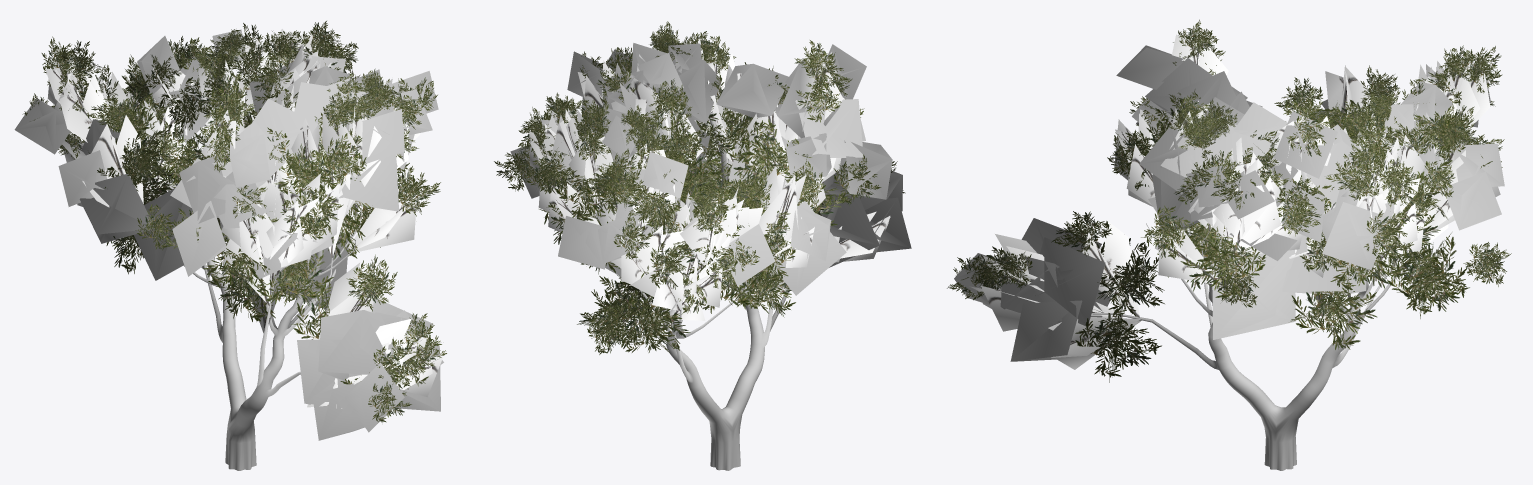
Rendered from Type_2_5.fbx.
The picture shows the model from 3 angles, left to right: view 1: azimuth 30°, elevation 25°; view 2: azimuth 150°, elevation 25°; view 3: azimuth 270°, elevation 25°; orthographic projection. The views are drawn at different scales.
Parts seen in each view (by area): view 1: Type_2_5; view 2: Type_2_5; view 3: Type_2_5.
Part boxes in pixels (bbox=[...]): Type_2_5: bbox=[14, 21, 446, 470]; Type_2_5: bbox=[494, 21, 911, 470]; Type_2_5: bbox=[947, 19, 1511, 470].
Size of the model in its own units: 10.04 by 14.97 by 12.2.
